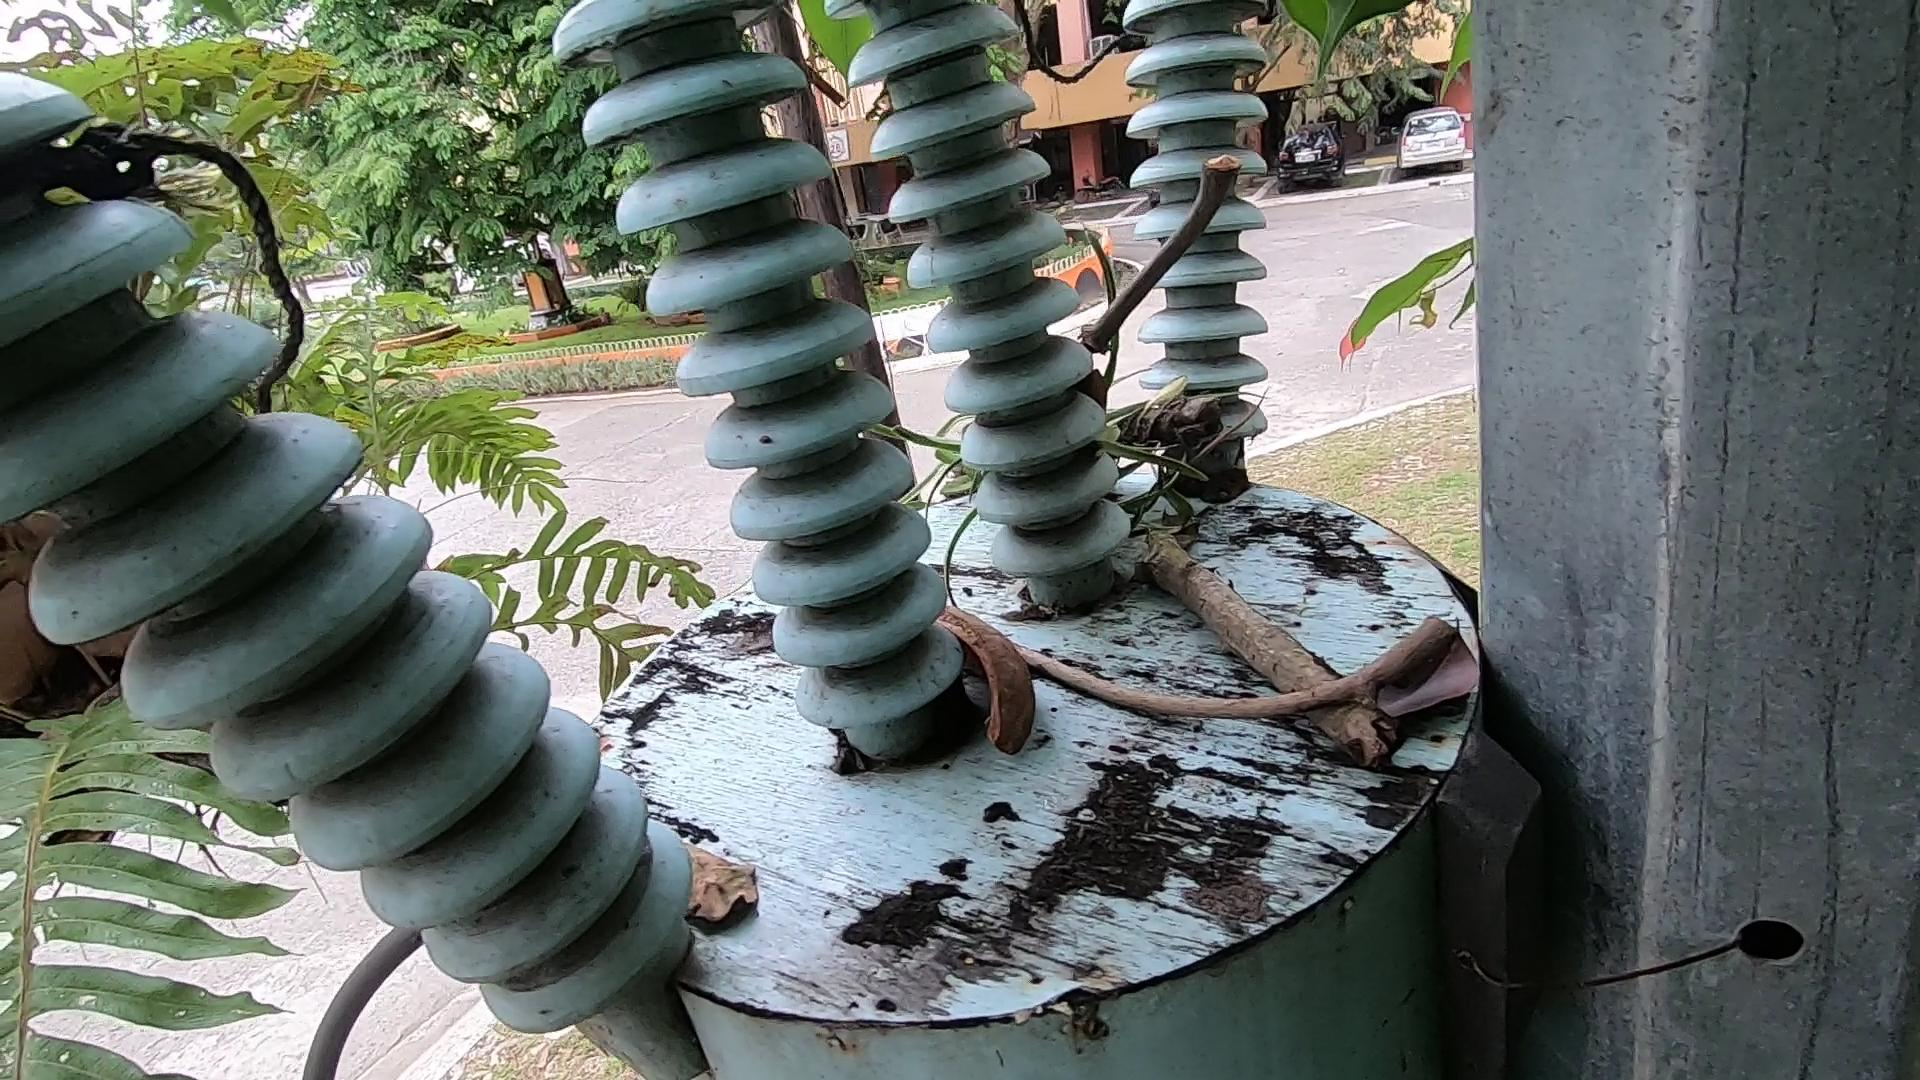branch with leaves: (1051, 320, 1418, 775)
leaf: (1345, 592, 1497, 760), (658, 814, 752, 965)
mahogany fruit: (889, 580, 1035, 785)
tree branch: (1054, 78, 1279, 413), (1001, 618, 1478, 738)
